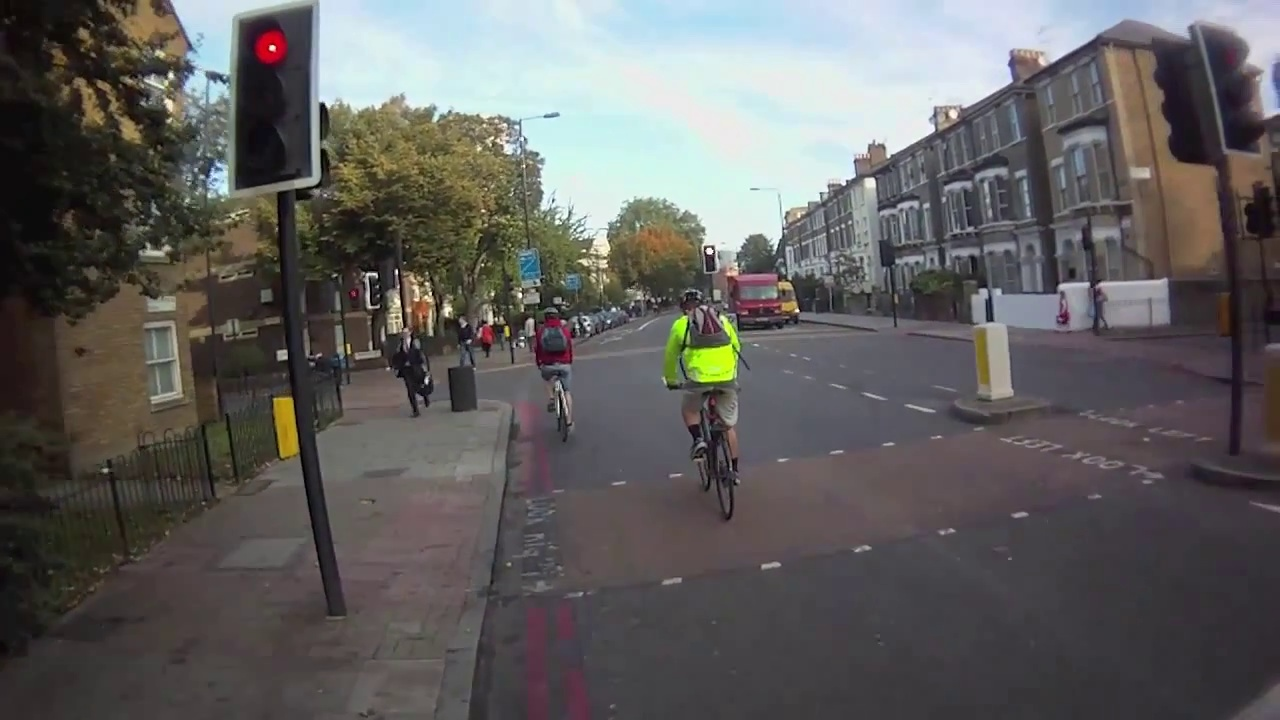cyclist_back: (663, 291, 749, 530), (528, 306, 580, 446)
